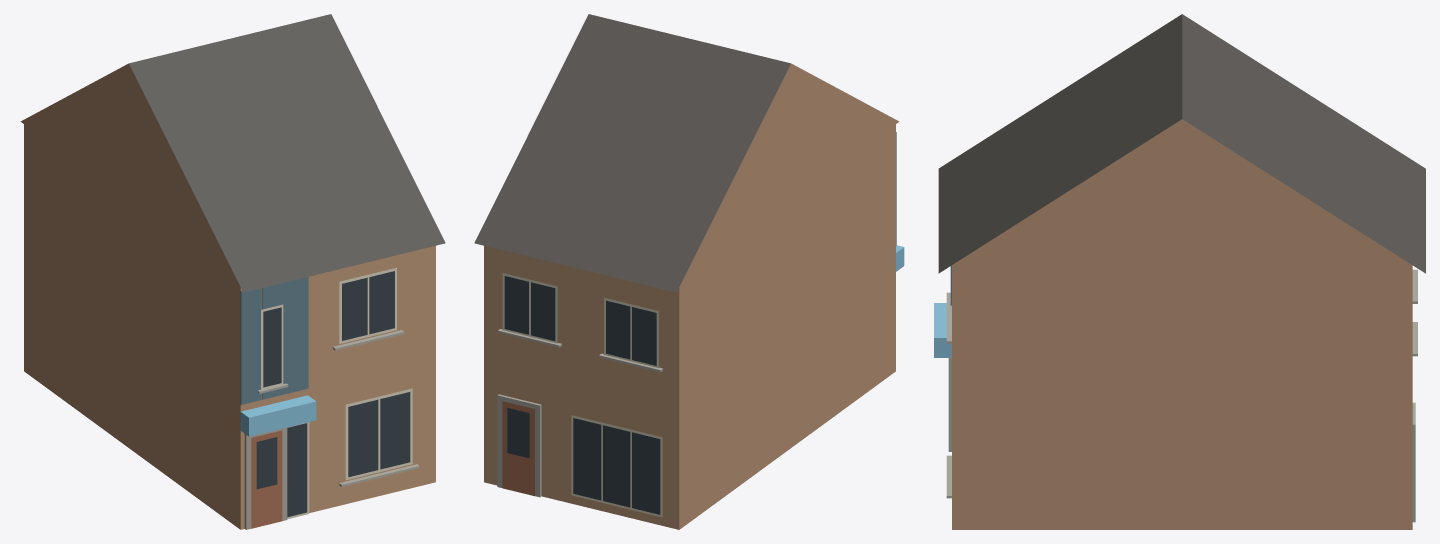
Rendered from zo-gk-blue-bay__buff__2__gable__long__solid.glb.
3 views of the same model, side by side, from view 1: azimuth 30°, elevation 25°; view 2: azimuth 150°, elevation 25°; view 3: azimuth 270°, elevation 25° (orthographic). The views are drawn at different scales.
Visible parts, largest first — view 1: zo-gk-blue-bay__buff__2__gable__long__solid; view 2: zo-gk-blue-bay__buff__2__gable__long__solid; view 3: zo-gk-blue-bay__buff__2__gable__long__solid.
Part boxes in pixels (left/top/right/bottom): zo-gk-blue-bay__buff__2__gable__long__solid: left=20, top=14, right=445, bottom=529; zo-gk-blue-bay__buff__2__gable__long__solid: left=474, top=14, right=904, bottom=529; zo-gk-blue-bay__buff__2__gable__long__solid: left=934, top=14, right=1425, bottom=529.
Size of the model in its own units: 5.59 by 10.24 by 11.06.
